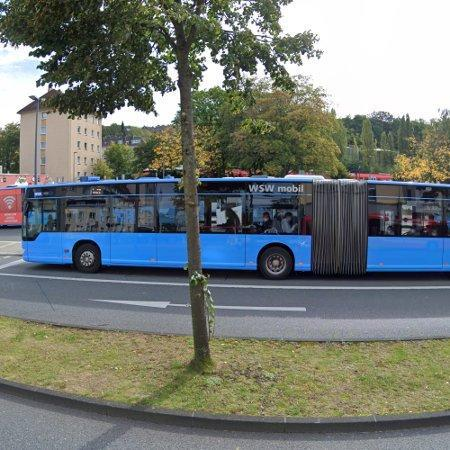buses: (24, 180, 186, 273)
